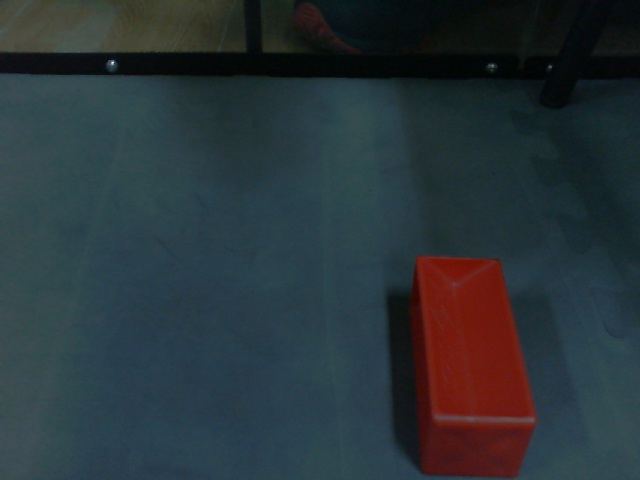RedSample: (406, 253, 539, 478)
